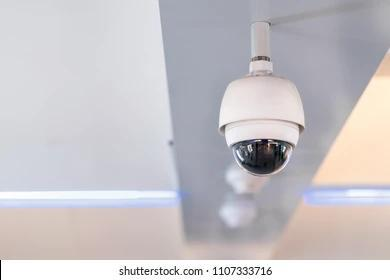360-Cam: (219, 74, 308, 178)
